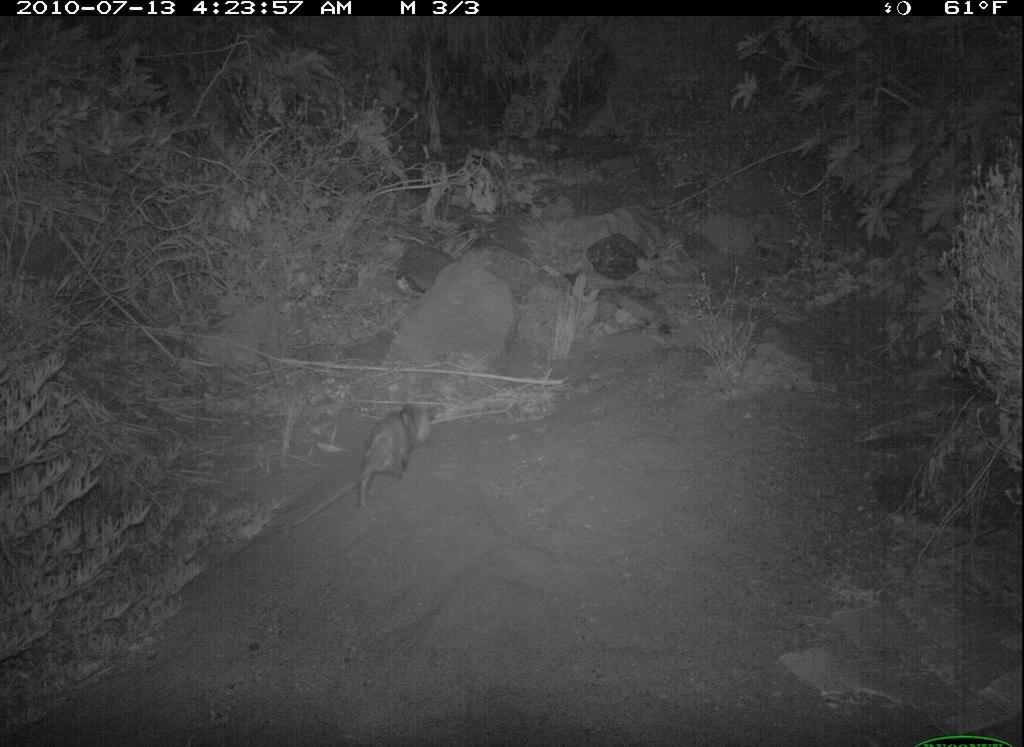opossum: (344, 390, 445, 520)
